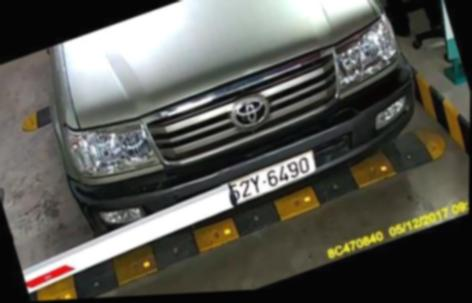License_Plate: (218, 148, 324, 207)
